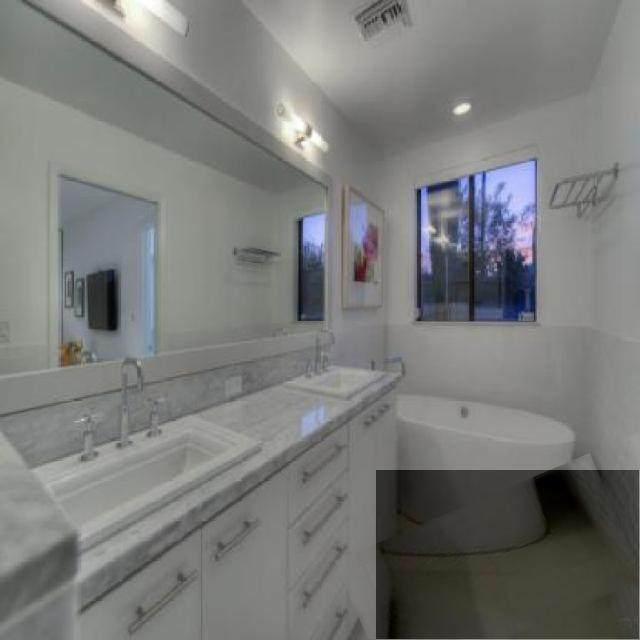floor: (376, 470, 640, 640)
